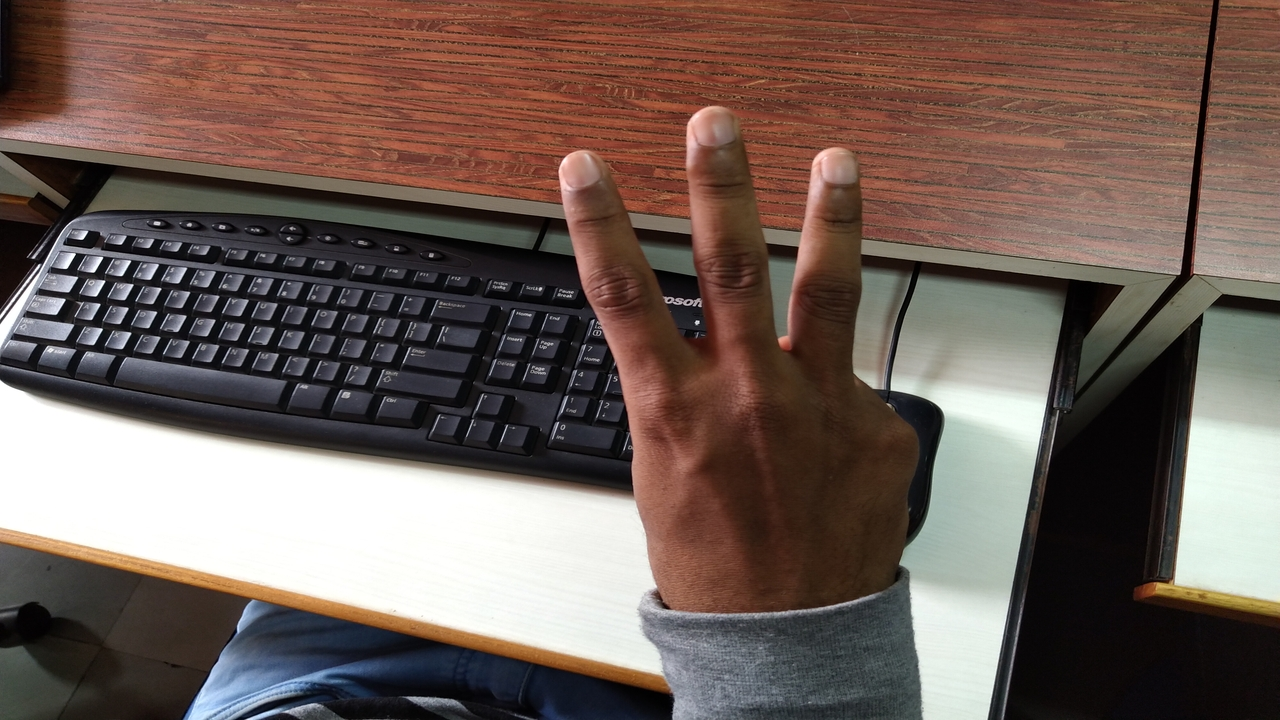fingertip: (680, 104, 752, 166), (806, 140, 868, 198), (552, 144, 614, 200)
